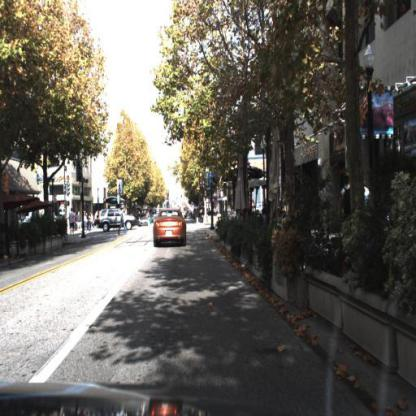car: (151, 206, 193, 252), (97, 207, 137, 233), (137, 210, 152, 229)
pedestrian: (120, 209, 127, 237), (155, 204, 163, 221)
